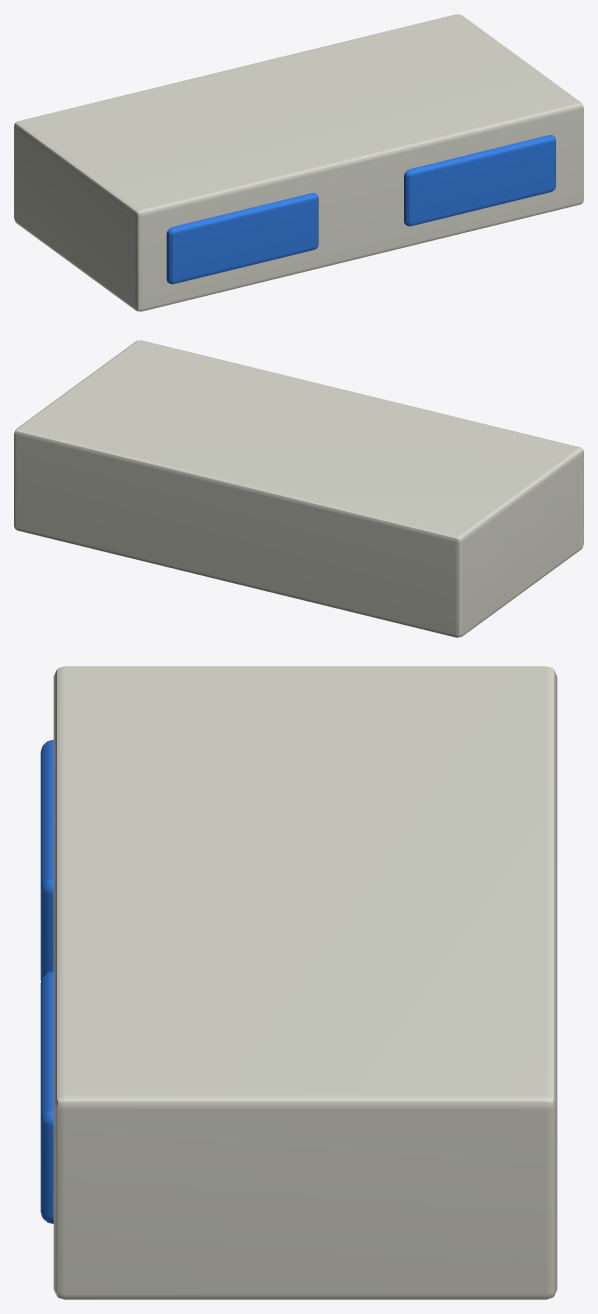
Rendered from mesa.fbx.
The picture shows the model from 3 angles, top to bottom: view 1: azimuth 30°, elevation 25°; view 2: azimuth 150°, elevation 25°; view 3: azimuth 270°, elevation 25°; orthographic projection. The views are drawn at different scales.
Parts seen in each view (by area): view 1: Mesa1, Cajon1, Cajon2; view 2: Mesa1; view 3: Mesa1, Cajon2, Cajon1.
Part boxes in pixels (box(x1,y1,x2,y2)): Mesa1: box(14, 14, 583, 311); Cajon1: box(166, 193, 318, 284); Cajon2: box(404, 135, 555, 226); Mesa1: box(14, 340, 583, 637); Mesa1: box(53, 666, 557, 1299); Cajon2: box(40, 971, 53, 1223); Cajon1: box(40, 740, 53, 981).
Bounding box in the file's own units: 4.59 × 1 × 2.29.
